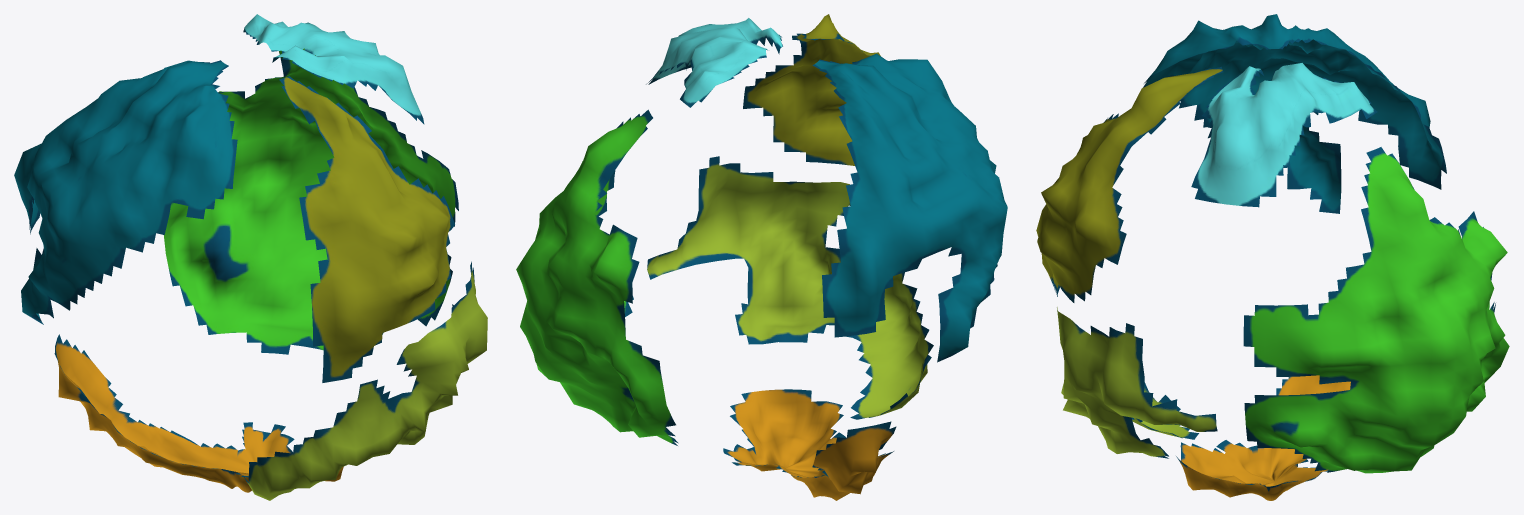
File: 3dContinents.fbx
3 renders of one model, left to right at view 1: azimuth 30°, elevation 25°; view 2: azimuth 150°, elevation 25°; view 3: azimuth 270°, elevation 25°, orthographic.
Visible parts, largest first — view 1: 3Dworld1_003, 3Dworld1_005, 3Dworld1_002, 3Dworld1_001, 3Dworld1, 3Dworld1_004; view 2: 3Dworld1_003, 3Dworld1_001, 3Dworld1_005, 3Dworld1, 3Dworld1_002, 3Dworld1_004; view 3: 3Dworld1_005, 3Dworld1_003, 3Dworld1_004, 3Dworld1_002, 3Dworld1_001, 3Dworld1.
Boxes of the visible parts, bbox=[...] form: 3Dworld1_003: bbox=[14, 60, 237, 324]; 3Dworld1_005: bbox=[164, 48, 458, 354]; 3Dworld1_002: bbox=[279, 76, 454, 382]; 3Dworld1_001: bbox=[243, 261, 487, 500]; 3Dworld1: bbox=[54, 334, 343, 492]; 3Dworld1_004: bbox=[243, 14, 424, 124]; 3Dworld1_003: bbox=[812, 53, 1007, 362]; 3Dworld1_001: bbox=[647, 156, 933, 419]; 3Dworld1_005: bbox=[516, 109, 678, 445]; 3Dworld1: bbox=[723, 389, 896, 500]; 3Dworld1_002: bbox=[743, 14, 880, 165]; 3Dworld1_004: bbox=[646, 18, 782, 107]; 3Dworld1_005: bbox=[1243, 147, 1509, 473]; 3Dworld1_003: bbox=[1143, 14, 1446, 213]; 3Dworld1_004: bbox=[1191, 63, 1377, 207]; 3Dworld1_002: bbox=[1036, 66, 1223, 302]; 3Dworld1_001: bbox=[1057, 307, 1217, 458]; 3Dworld1: bbox=[1176, 375, 1350, 500].
Size of the model in its own units: 2.15 by 2.18 by 2.12.
